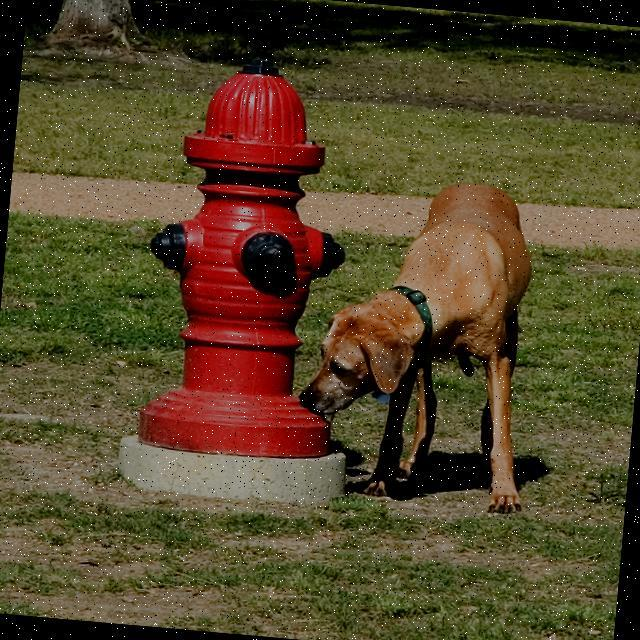fire_hydrant: (131, 50, 365, 462)
